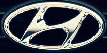Hyundai: (1, 1, 106, 53)
